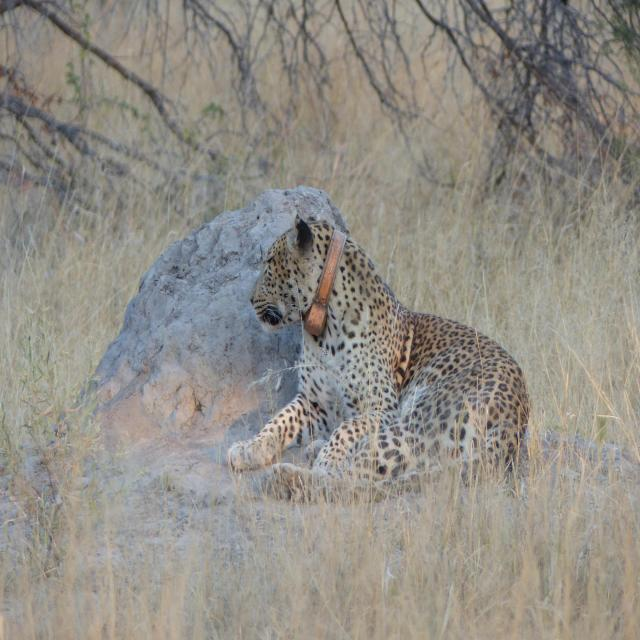Leopard: (217, 207, 543, 508)
